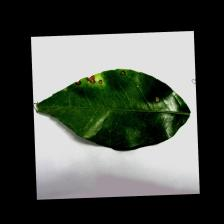canker: (65, 64, 167, 109)
